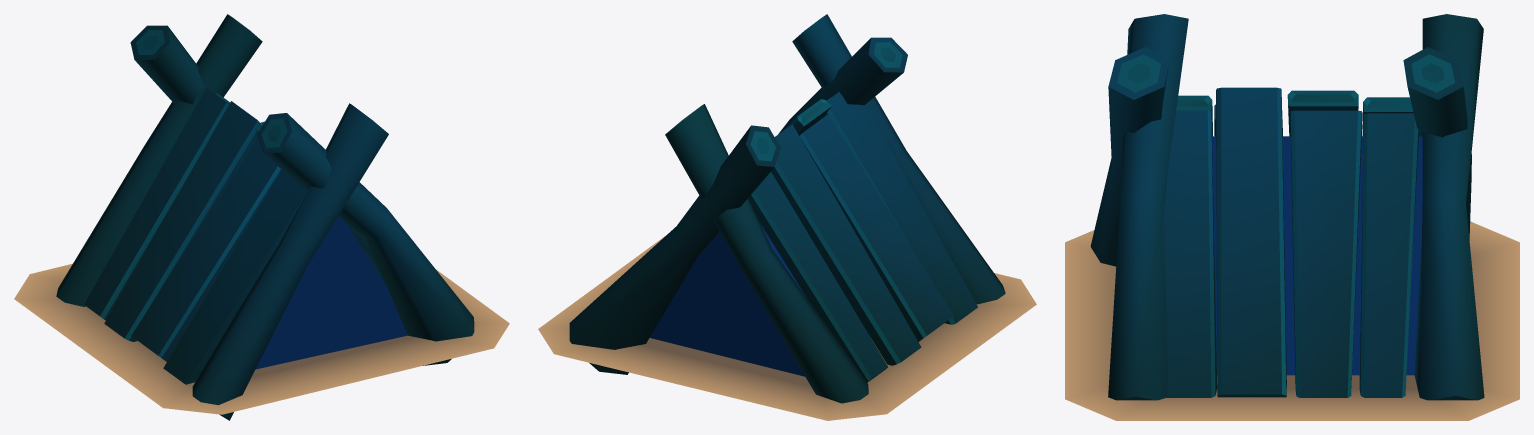
File: Hovel.fbx
The picture shows the model from 3 angles, left to right: view 1: azimuth 30°, elevation 25°; view 2: azimuth 150°, elevation 25°; view 3: azimuth 270°, elevation 25°; orthographic projection. The views are drawn at different scales.
Visible parts, largest first — view 1: Hovel; view 2: Hovel; view 3: Hovel.
Boxes of the visible parts, x1,y1,x2,y2 form: Hovel: [14, 14, 509, 420]; Hovel: [538, 14, 1036, 420]; Hovel: [1065, 14, 1519, 420].
Bounding box in the file's own units: 1856 × 1437 × 1781.
